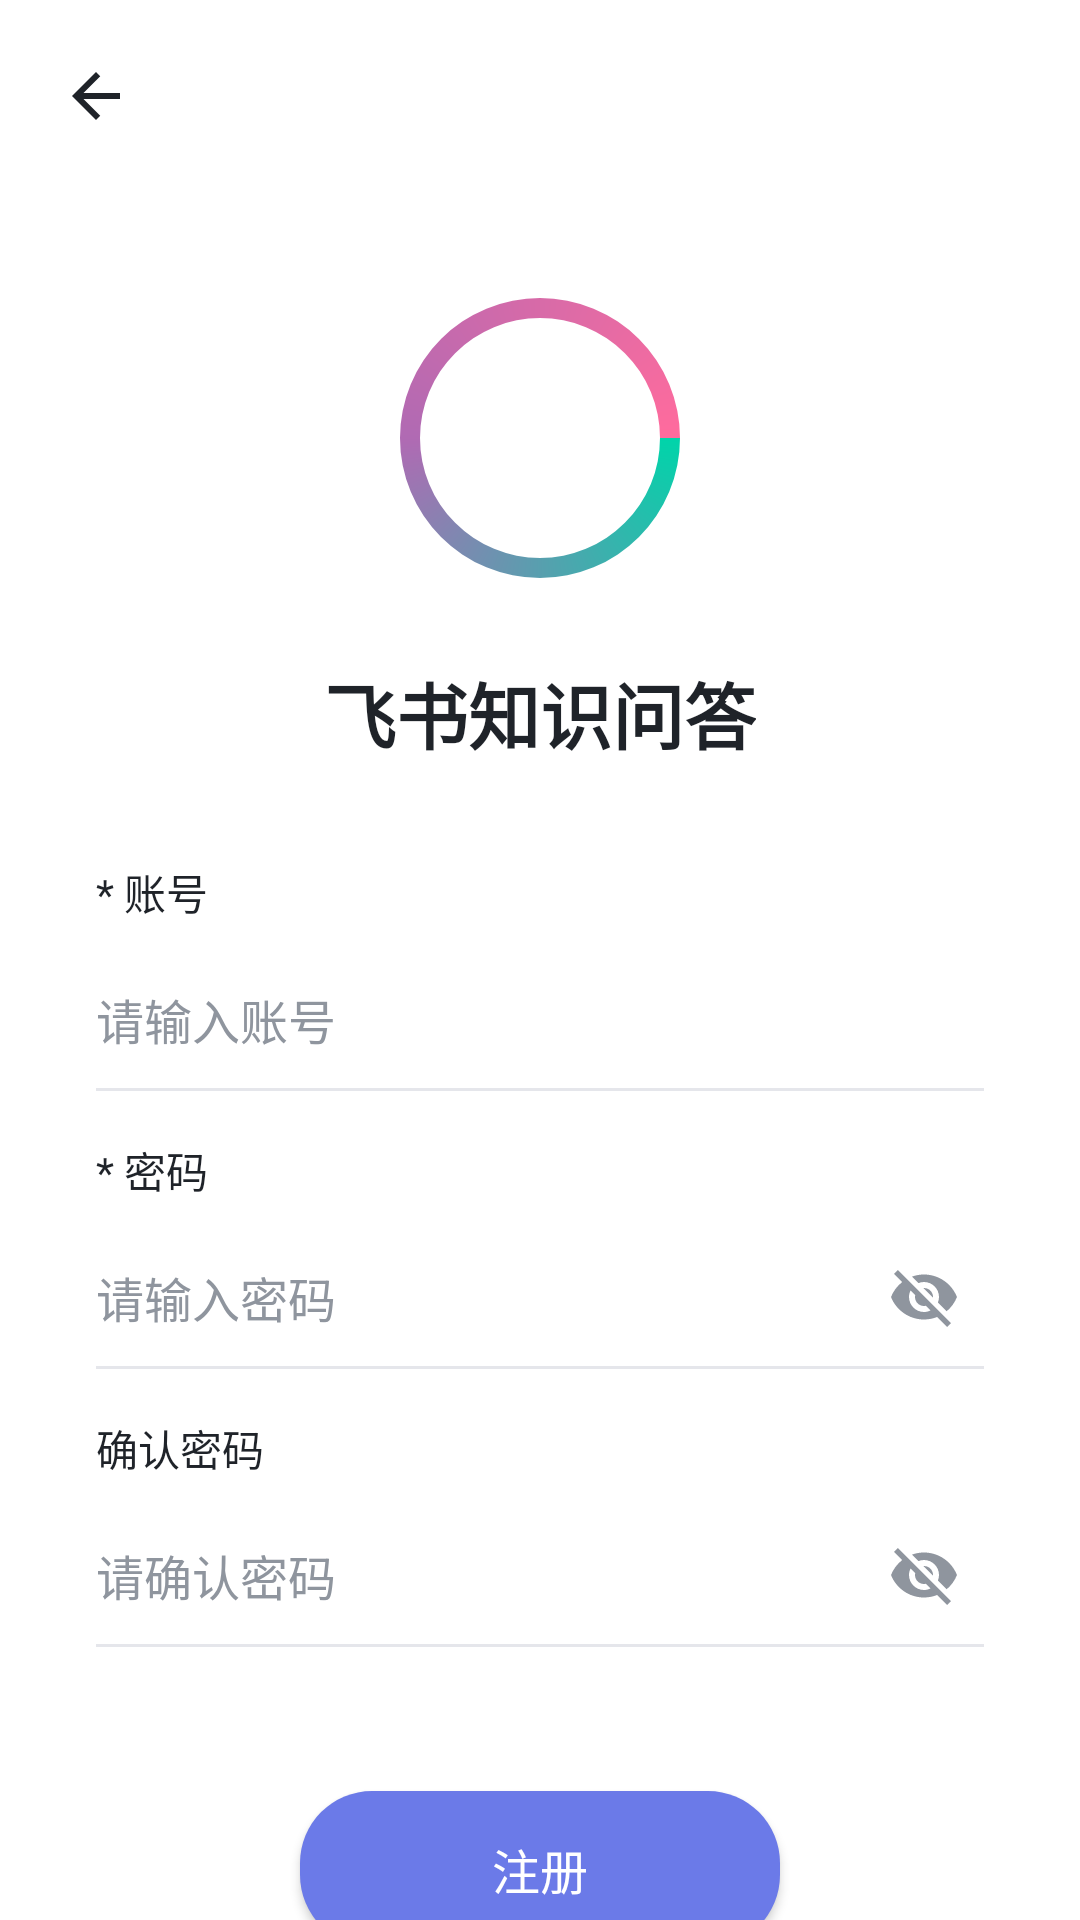

Icon bounding boxes for this 1080*1920 phone screenshot, format (x1, y1, x2, y2):
显示密码: (891, 1270, 957, 1327), (891, 1548, 957, 1605)
返回: (72, 72, 120, 120)
